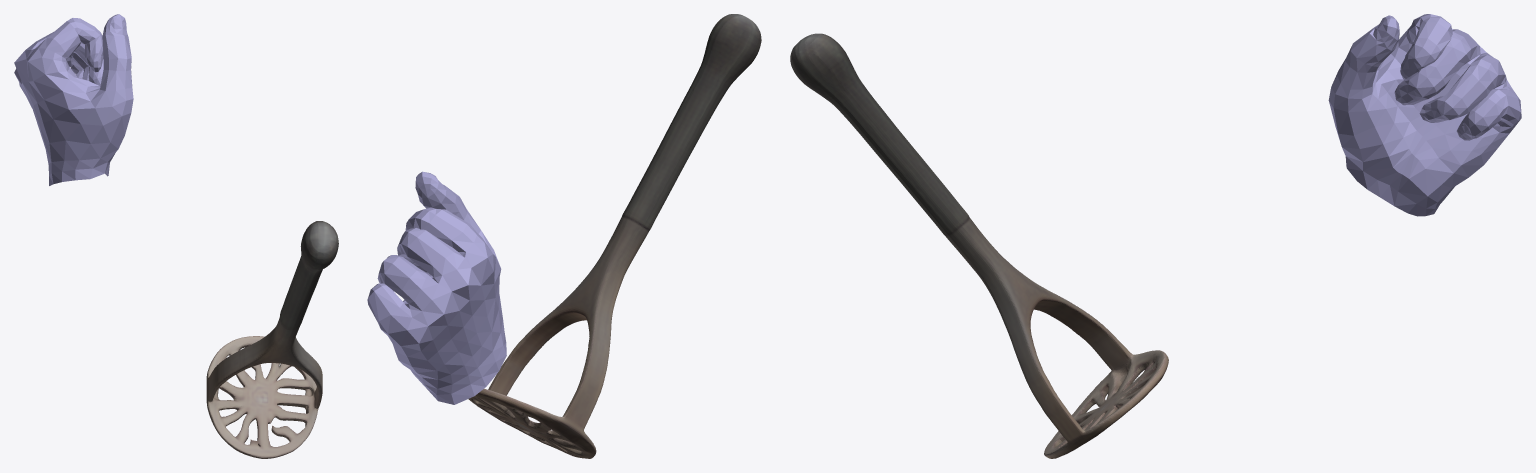
Rendered from frame_0040_source_000040_hand_object.glb.
The picture shows the model from 3 angles, left to right: view 1: azimuth 30°, elevation 25°; view 2: azimuth 150°, elevation 25°; view 3: azimuth 270°, elevation 25°; orthographic projection. The views are drawn at different scales.
Visible parts, largest first — view 1: world; view 2: world; view 3: world.
Part boxes in pixels (<box>): world: <box>14,14,338,458</box>; world: <box>367,14,761,458</box>; world: <box>790,14,1521,458</box>.
Size of the model in its own units: 0.1101 by 0.2415 by 0.3786.
